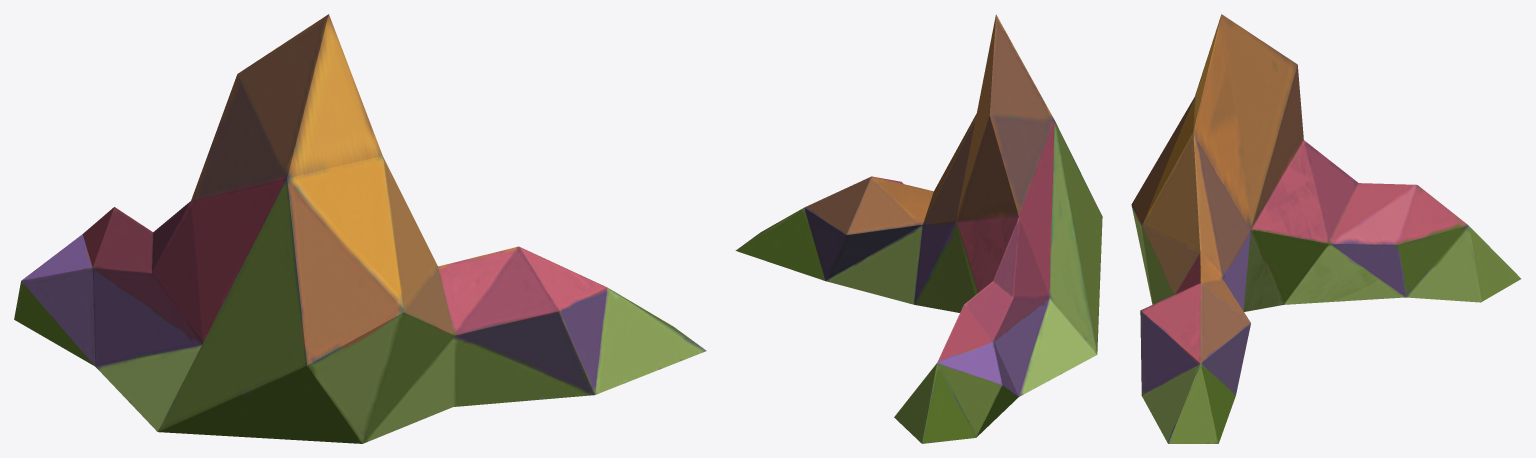
File: wall_corner_deco.fbx
The picture shows the model from 3 angles, left to right: view 1: azimuth 30°, elevation 25°; view 2: azimuth 150°, elevation 25°; view 3: azimuth 270°, elevation 25°; orthographic projection. The views are drawn at different scales.
Visible parts, largest first — view 1: wall_corner_deco; view 2: wall_corner_deco; view 3: wall_corner_deco.
Part boxes in pixels (box(x1,y1,x2,y2)): wall_corner_deco: box(14, 14, 706, 443); wall_corner_deco: box(735, 14, 1102, 443); wall_corner_deco: box(1131, 14, 1520, 443).
Bounding box in the file's own units: 0.0405 × 0.0305 × 0.0357.
